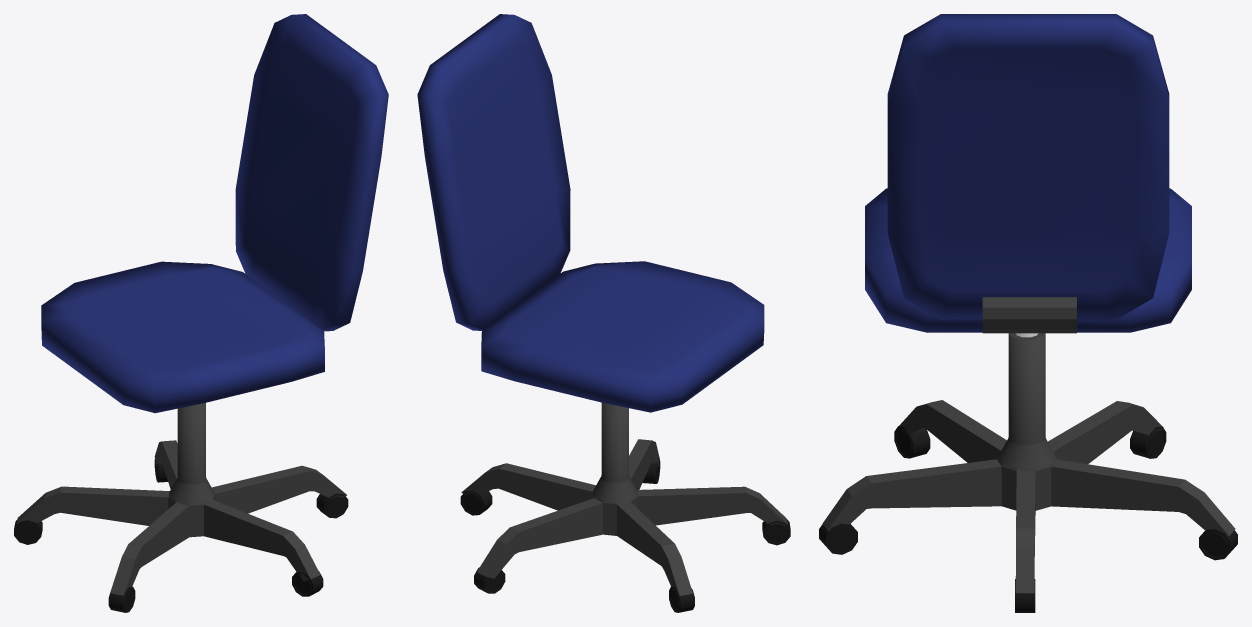
Rendered from ComputerChair.fbx.
3 views of the same model, side by side, from view 1: azimuth 30°, elevation 25°; view 2: azimuth 150°, elevation 25°; view 3: azimuth 270°, elevation 25° (orthographic). The views are drawn at different scales.
Visible parts, largest first — view 1: Back, Bottom, Base, Wheels; view 2: Back, Bottom, Base, Wheels; view 3: Back, Base, Bottom, Wheels, Cylinder.
Boxes of the visible parts, left/top/right/bottom form: Back: left=235, top=14, right=388, bottom=331; Bottom: left=41, top=261, right=324, bottom=413; Base: left=16, top=403, right=346, bottom=595; Wheels: left=14, top=459, right=348, bottom=612; Back: left=417, top=14, right=570, bottom=330; Bottom: left=481, top=261, right=764, bottom=412; Base: left=461, top=402, right=787, bottom=596; Wheels: left=460, top=457, right=790, bottom=612; Back: left=887, top=14, right=1169, bottom=319; Base: left=822, top=333, right=1235, bottom=593; Bottom: left=865, top=188, right=1191, bottom=332; Wheels: left=819, top=426, right=1237, bottom=612; Cylinder: left=982, top=297, right=1076, bottom=333.
Bounding box in the file's own units: 59.63 × 96.36 × 61.53.
